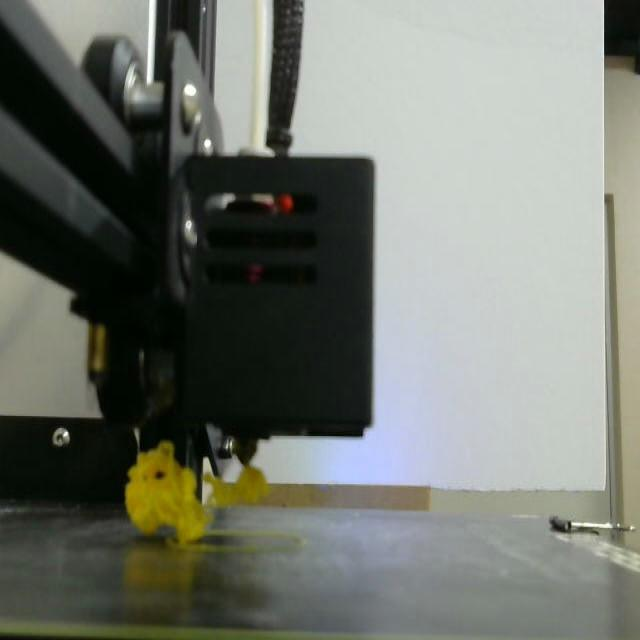spaghetti: (125, 442, 211, 543), (208, 467, 269, 505)
